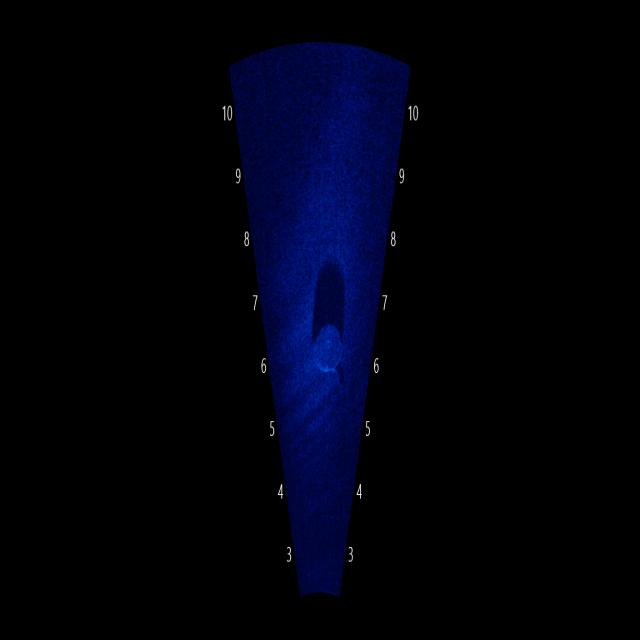circle: (308, 303, 351, 393)
